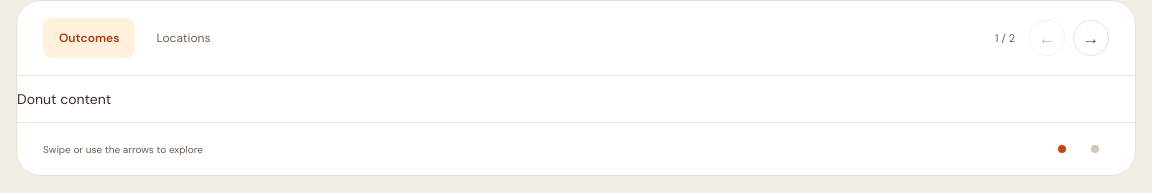
Test: supports horizontal swipes while ignoring vertical scrolling
The image size is (1152, 193).
Press the mouse on the element with class "report-carousel-window" at [64, 99], box [17,90,1151,108]
Expected: the element named "1 of 2: Outcomes" is shown, [17,90,111,108]
Press the mouse on the element with class "report-carousel-window" at [64, 99], box [17,90,1151,108]
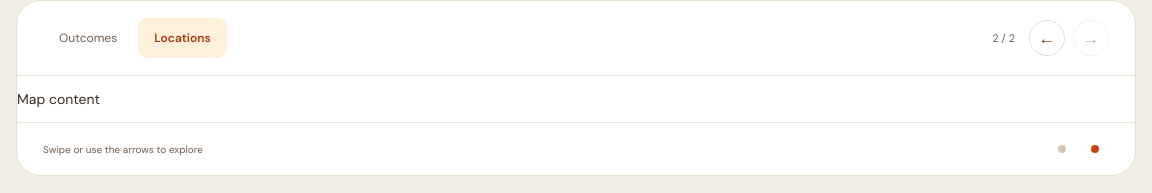
Result: the element named "2 of 2: Locations" is shown at [17,90,100,108]
